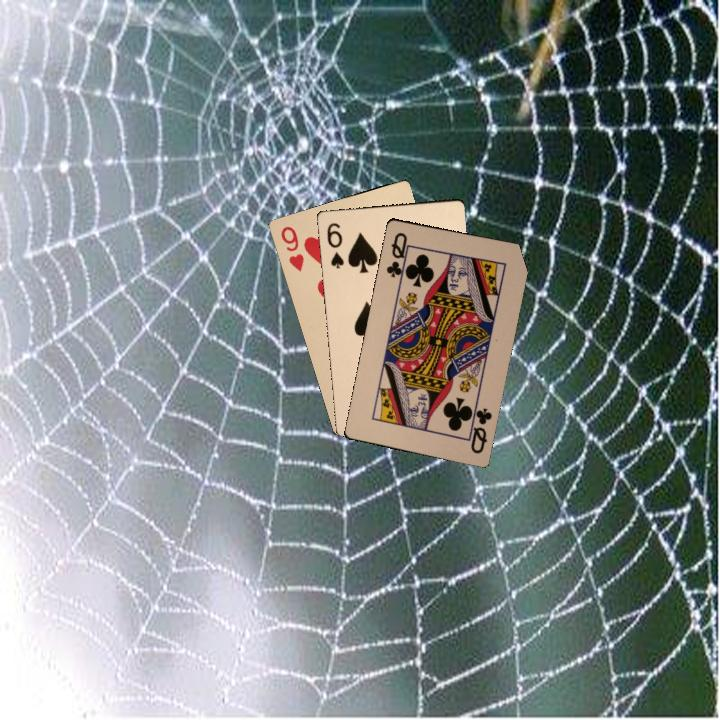6s: (323, 219, 346, 271)
9h: (277, 222, 306, 274)
Qc: (462, 401, 495, 456), (382, 228, 412, 283)
